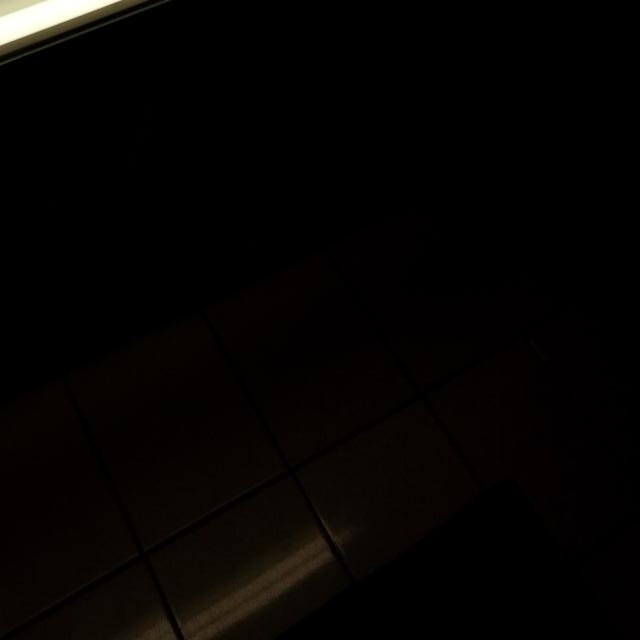fluorescent tube: (0, 0, 640, 244), (0, 0, 640, 142)
